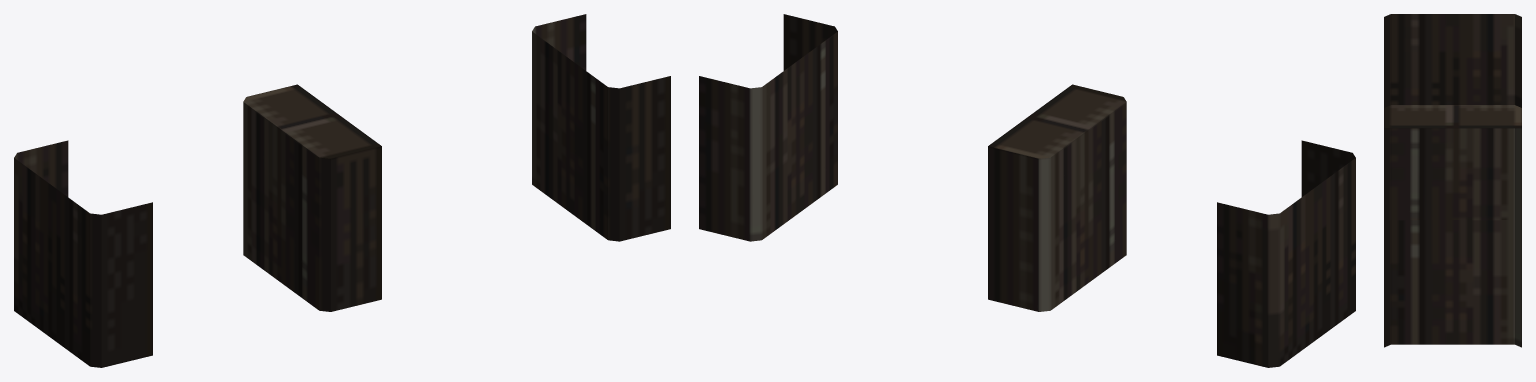
The model's file is EnvMdrMD_ClockTower_Pillar_Thick_End.FBX.
The picture shows the model from 3 angles, left to right: view 1: azimuth 30°, elevation 25°; view 2: azimuth 150°, elevation 25°; view 3: azimuth 270°, elevation 25°; orthographic projection. The views are drawn at different scales.
Visible parts, largest first — view 1: EnvMdrMD_ClockTower_Pillar_Thick_Start, EnvMdrMD_ClockTower_Pillar_Thick_Loop, EnvMdrMD_ClockTower_Pillar_Thick_End; view 2: EnvMdrMD_ClockTower_Pillar_Thick_Start, EnvMdrMD_ClockTower_Pillar_Thick_Loop, EnvMdrMD_ClockTower_Pillar_Thick_End; view 3: EnvMdrMD_ClockTower_Pillar_Thick_Loop, EnvMdrMD_ClockTower_Pillar_Thick_Start, EnvMdrMD_ClockTower_Pillar_Thick_End.
Boxes of the visible parts, x1,y1,x2,y2 form: EnvMdrMD_ClockTower_Pillar_Thick_Start: (243,84,381,311); EnvMdrMD_ClockTower_Pillar_Thick_Loop: (532,14,670,241); EnvMdrMD_ClockTower_Pillar_Thick_End: (14,140,152,367); EnvMdrMD_ClockTower_Pillar_Thick_Start: (988,84,1126,311); EnvMdrMD_ClockTower_Pillar_Thick_Loop: (699,14,837,241); EnvMdrMD_ClockTower_Pillar_Thick_End: (1217,140,1355,367); EnvMdrMD_ClockTower_Pillar_Thick_Loop: (1384,220,1521,347); EnvMdrMD_ClockTower_Pillar_Thick_Start: (1384,105,1521,222); EnvMdrMD_ClockTower_Pillar_Thick_End: (1384,14,1521,107).
Size of the model in its own units: 394 by 100 by 100.
1 material, 1 textured.
